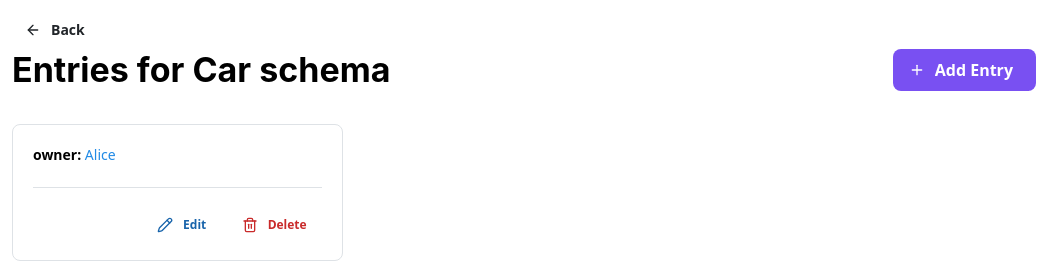
Scenario: EntriesPage › deletes an entry after confirming and refreshes the list
Expected: the link "Alice" is shown, [85,145,116,164]
Click the button "Delete": [276, 226] box [231,210,322,240]
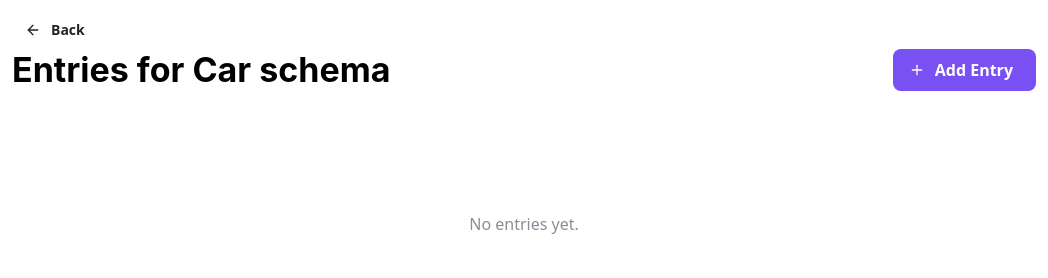
Expected: the text "No entries yet." is shown, [469,212,579,237]
